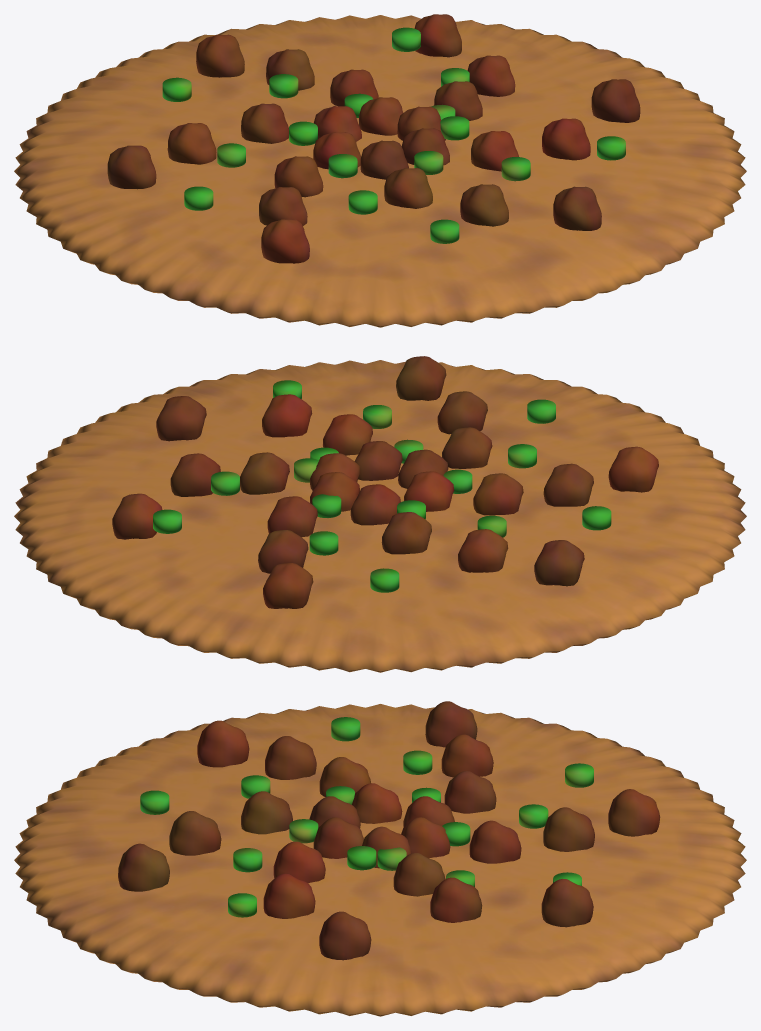
The model's file is keema-masala-pizza-high.glb.
3 renders of one model, top to bottom at view 1: azimuth 30°, elevation 25°; view 2: azimuth 150°, elevation 25°; view 3: azimuth 270°, elevation 25°, orthographic.
Parts seen in each view (by area): view 1: Mesh_Artisan_Pizza_Crust, Mesh_Spiced_Minced_Keema_Clusters, Mesh_Green_Chili_Ginger_And_Coriander; view 2: Mesh_Artisan_Pizza_Crust, Mesh_Spiced_Minced_Keema_Clusters, Mesh_Green_Chili_Ginger_And_Coriander; view 3: Mesh_Artisan_Pizza_Crust, Mesh_Spiced_Minced_Keema_Clusters, Mesh_Green_Chili_Ginger_And_Coriander.
Boxes of the visible parts, x1,y1,x2,y2 form: Mesh_Artisan_Pizza_Crust: (14,15,746,327); Mesh_Spiced_Minced_Keema_Clusters: (107,14,640,263); Mesh_Green_Chili_Ginger_And_Coriander: (162,27,625,243); Mesh_Artisan_Pizza_Crust: (14,360,746,672); Mesh_Spiced_Minced_Keema_Clusters: (112,356,658,608); Mesh_Green_Chili_Ginger_And_Coriander: (153,380,611,592); Mesh_Artisan_Pizza_Crust: (14,704,746,1016); Mesh_Spiced_Minced_Keema_Clusters: (118,701,660,960); Mesh_Green_Chili_Ginger_And_Coriander: (140,717,593,917).
Bounding box in the file's own units: 2.4 × 0.28 × 2.4.
4 materials, 4 textured.
